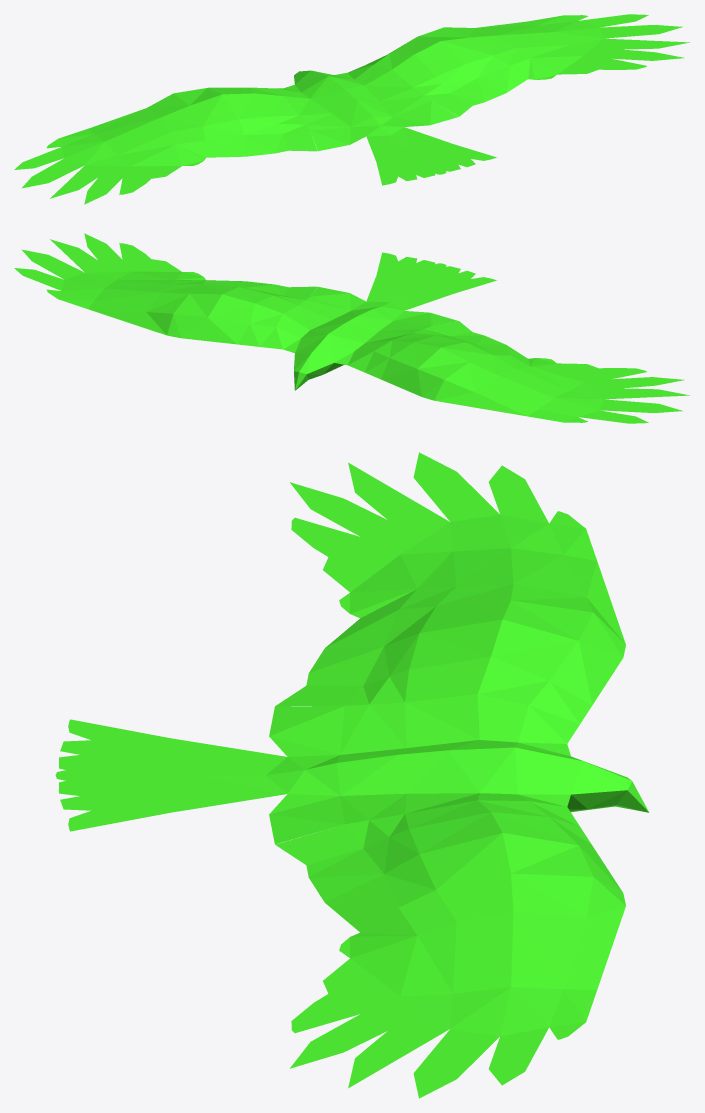
File: tonbi4_sankaku.fbx
3 views of the same model, one above another, from view 1: azimuth 30°, elevation 25°; view 2: azimuth 150°, elevation 25°; view 3: azimuth 270°, elevation 25° (orthographic). The views are drawn at different scales.
Visible parts, largest first — view 1: Curve; view 2: Curve; view 3: Curve.
Boxes of the visible parts, x1,y1,x2,y2 form: Curve: (14, 14, 690, 204); Curve: (14, 233, 690, 423); Curve: (55, 452, 649, 1098).
Bounding box in the file's own units: 2235 × 868 × 164.
